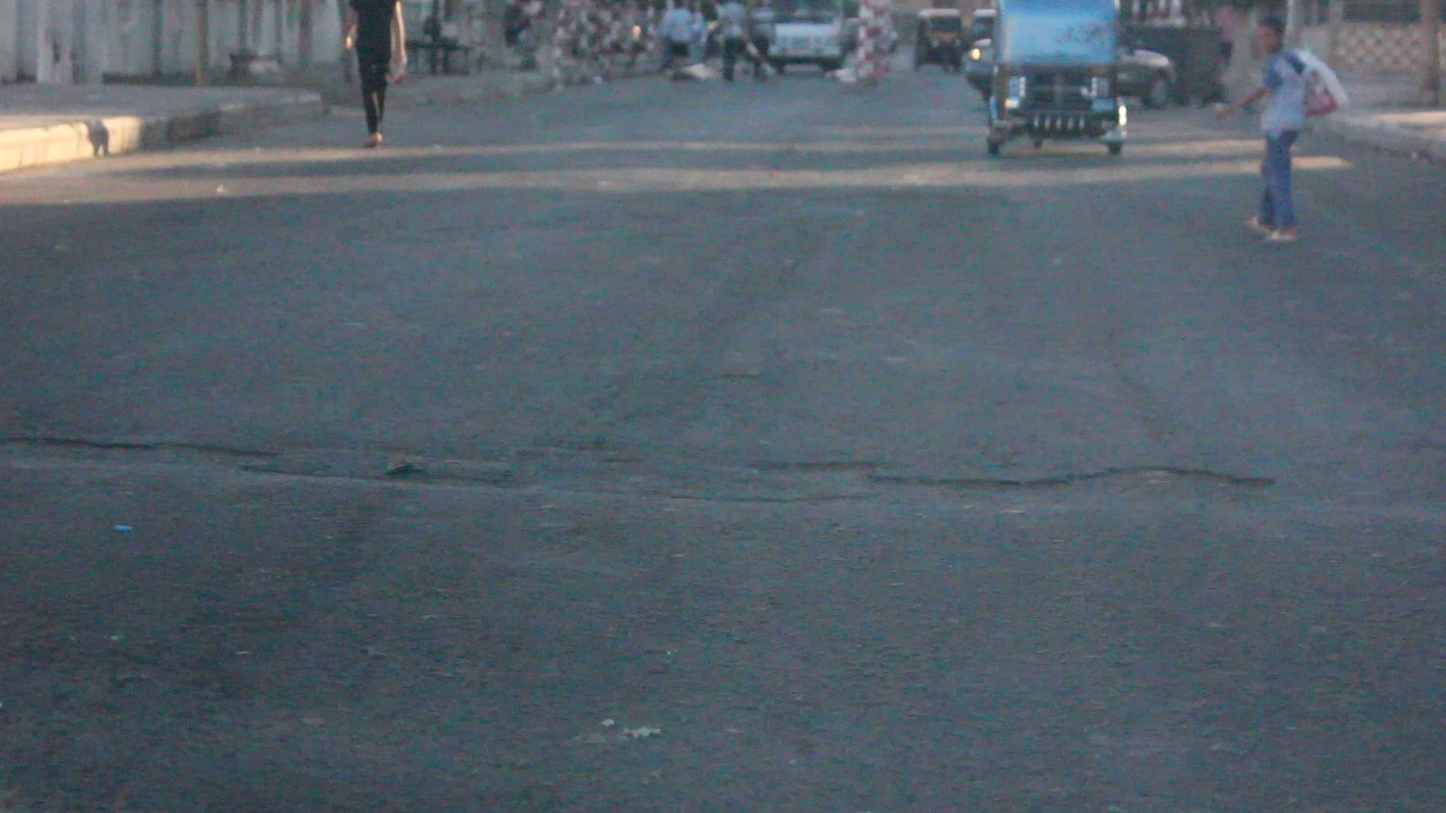Pothole: (747, 442, 1314, 546), (17, 423, 375, 489)
